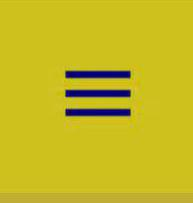ImgButton: (1, 1, 192, 202)
